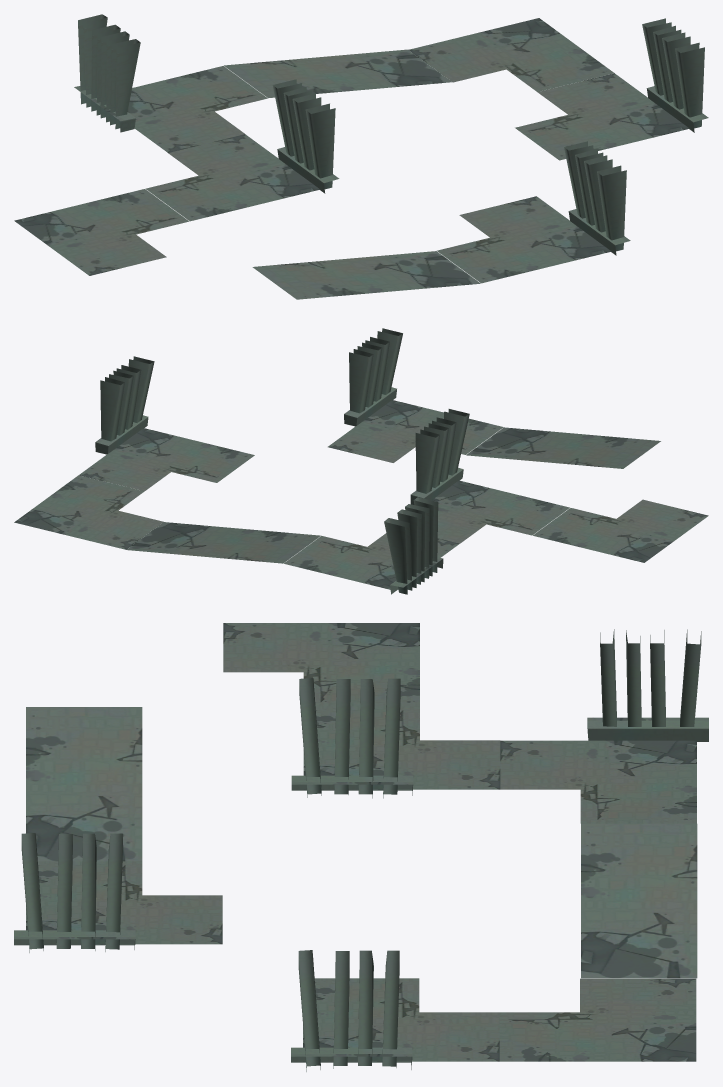
The model's file is Combined_Mesh_root_scene__4_e0ea2853__zombies2_diffuse_08_b0bdab26_c1f257.obj.
3 views of the same model, one above another, from view 1: azimuth 30°, elevation 25°; view 2: azimuth 150°, elevation 25°; view 3: azimuth 270°, elevation 25° (orthographic). The views are drawn at different scales.
Size of the model in its own units: 70.02 by 11.55 by 50.19.
Materials: 12 (12 with a texture image).
